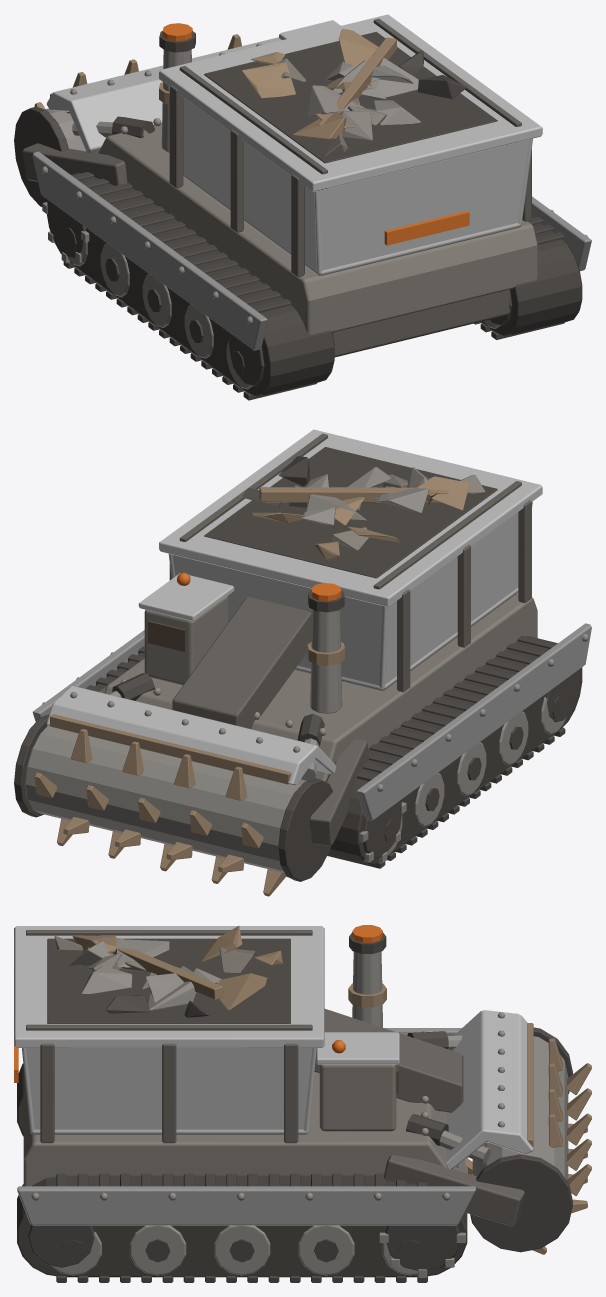
File: crucible_salvager.glb
3 views of the same model, one above another, from view 1: azimuth 30°, elevation 25°; view 2: azimuth 150°, elevation 25°; view 3: azimuth 270°, elevation 25° (orthographic).
Visible parts, largest first — view 1: Body; view 2: Body; view 3: Body.
Boxes of the visible parts, x1,y1,x2,y2 form: Body: (14, 14, 591, 400); Body: (14, 429, 591, 896); Body: (14, 925, 591, 1282).
Size of the model in its own units: 1.66 by 1.15 by 2.42.
